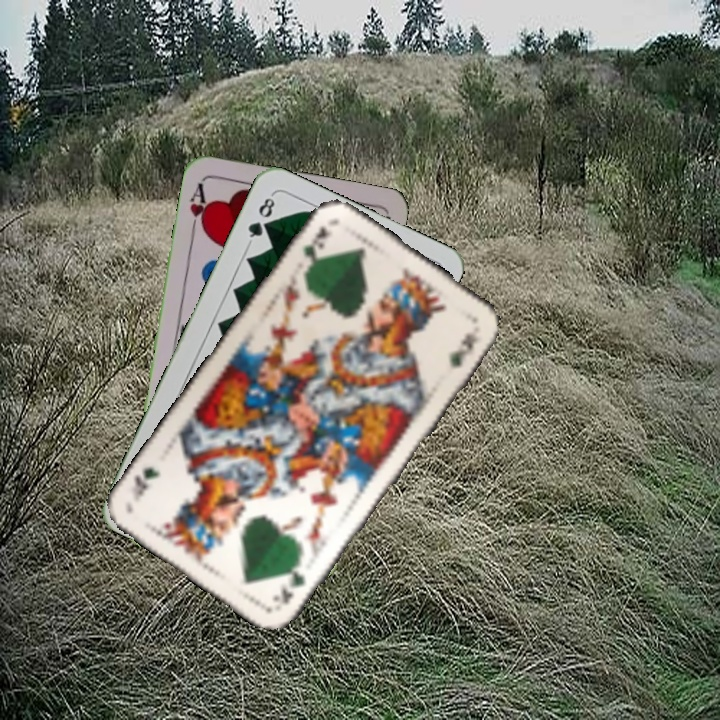G8: (244, 190, 278, 246)
GK: (299, 222, 331, 274), (271, 567, 308, 607)
HA: (186, 178, 212, 237)
